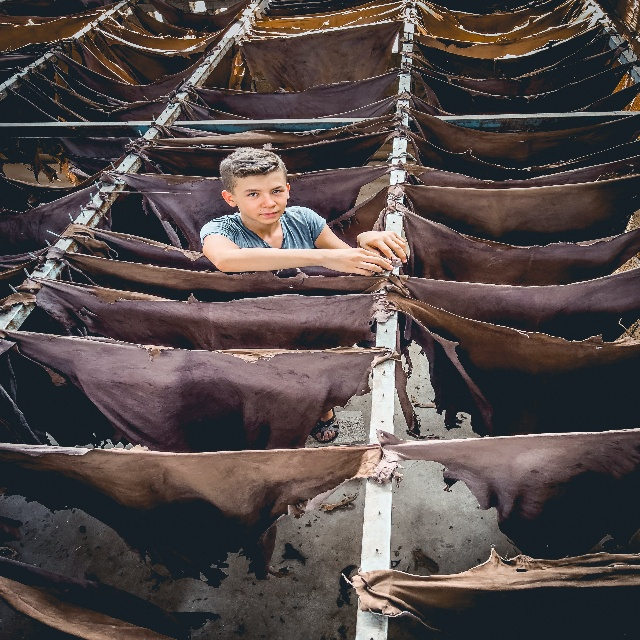Sin_guantes: (322, 246, 394, 277), (359, 230, 408, 265)
